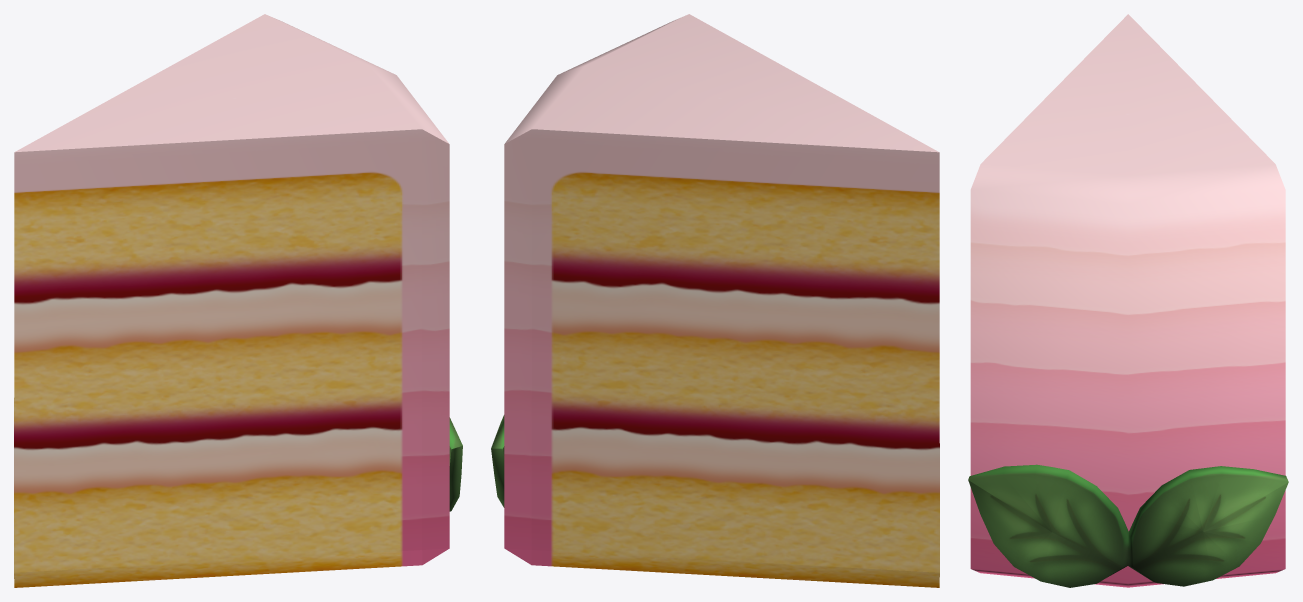
The model's file is Wedding_01_Slice_Bottom.fbx.
3 views of the same model, side by side, from view 1: azimuth 30°, elevation 25°; view 2: azimuth 150°, elevation 25°; view 3: azimuth 270°, elevation 25° (orthographic). The views are drawn at different scales.
Visible parts, largest first — view 1: Wedding_01_Slice_Bottom; view 2: Wedding_01_Slice_Bottom; view 3: Wedding_01_Slice_Bottom.
Boxes of the visible parts, bbox=[...] form: Wedding_01_Slice_Bottom: bbox=[14, 14, 462, 587]; Wedding_01_Slice_Bottom: bbox=[491, 14, 939, 587]; Wedding_01_Slice_Bottom: bbox=[968, 14, 1288, 587].
Size of the model in its own units: 61.39 by 64.9 by 46.13.
